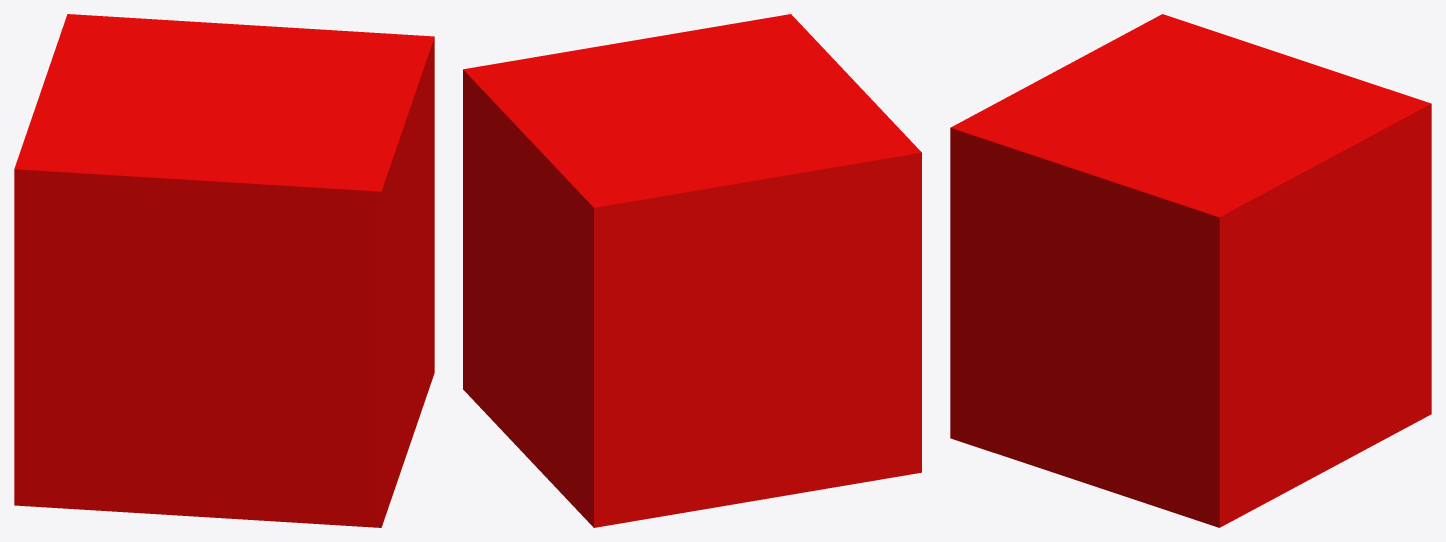
File: redBox.glb
3 renders of one model, left to right at view 1: azimuth 30°, elevation 25°; view 2: azimuth 150°, elevation 25°; view 3: azimuth 270°, elevation 25°, orthographic. The views are drawn at different scales.
Bounding box in the file's own units: 1.4 × 1 × 1.4.
